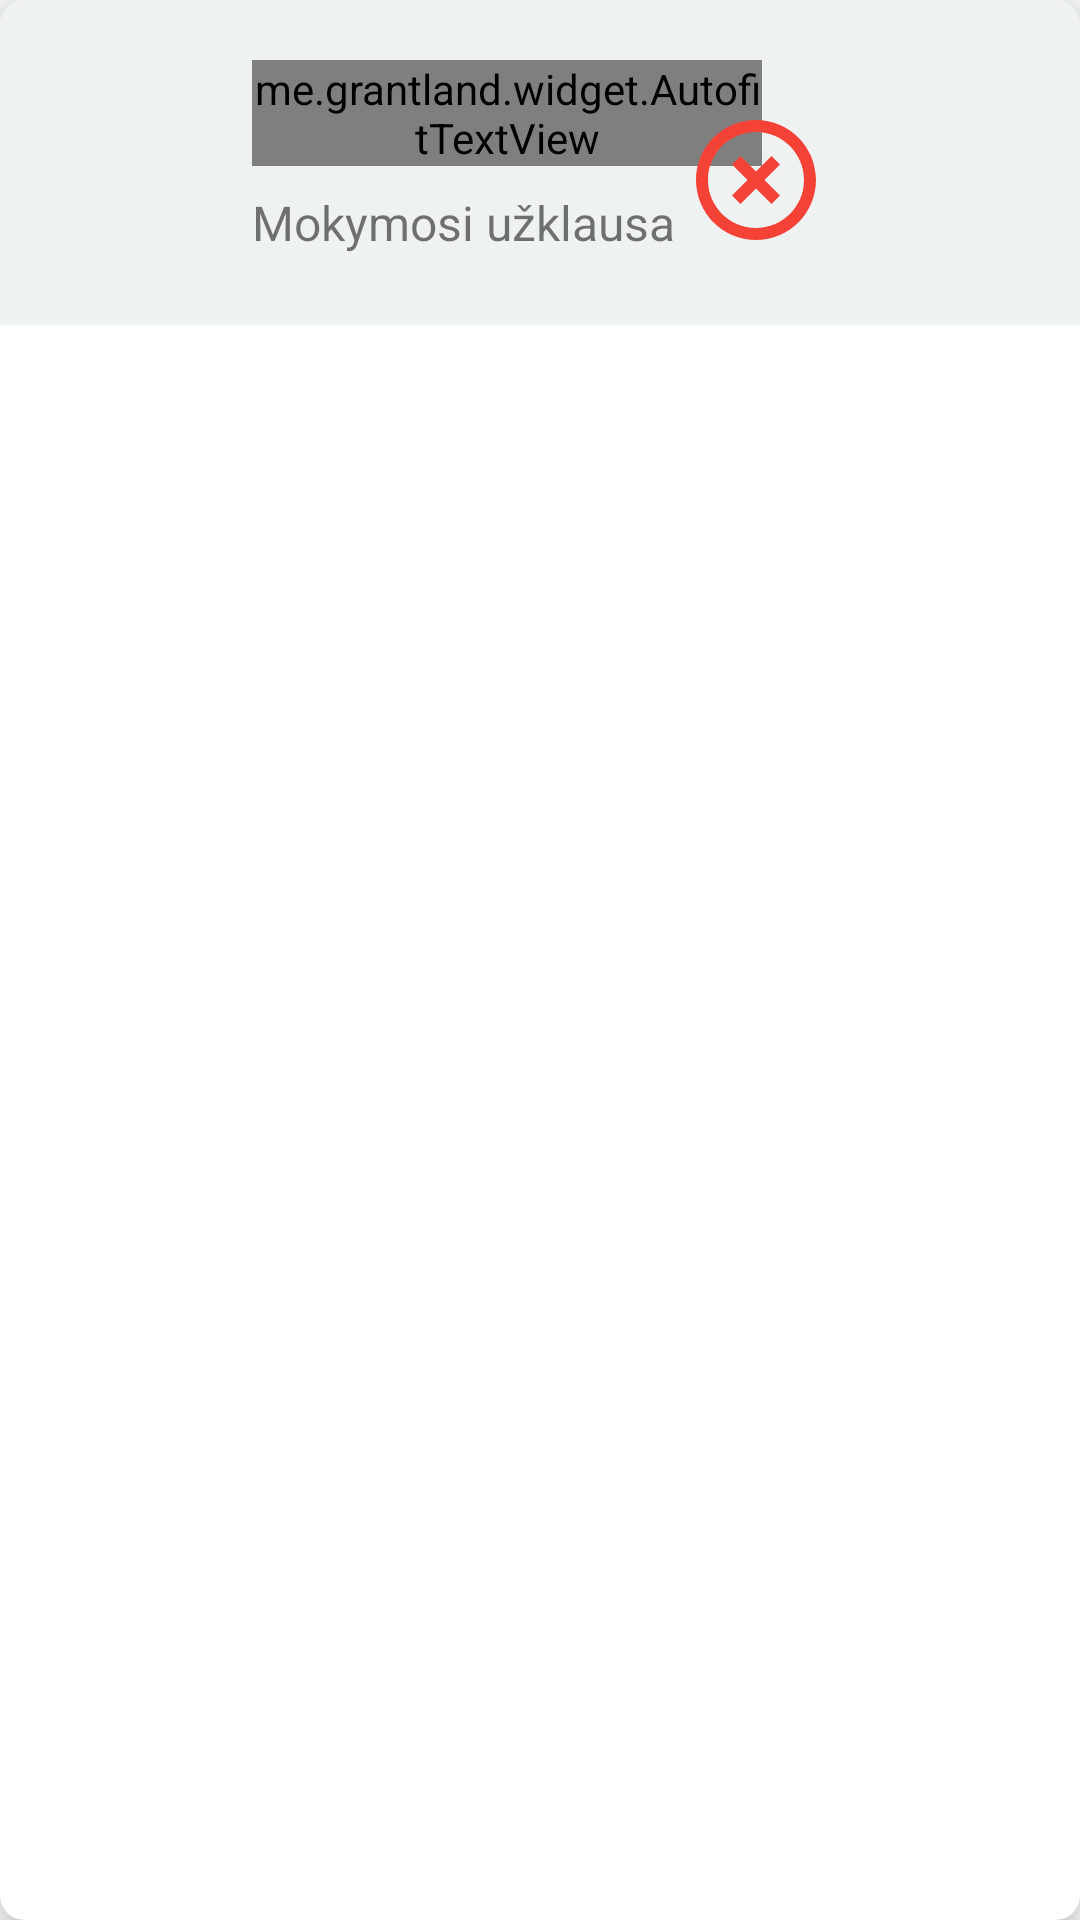

Where icons sit on this 1080px x 1920px app screen, as (x1, y1, x2, y2):
highlight off: (684, 108, 816, 240)
